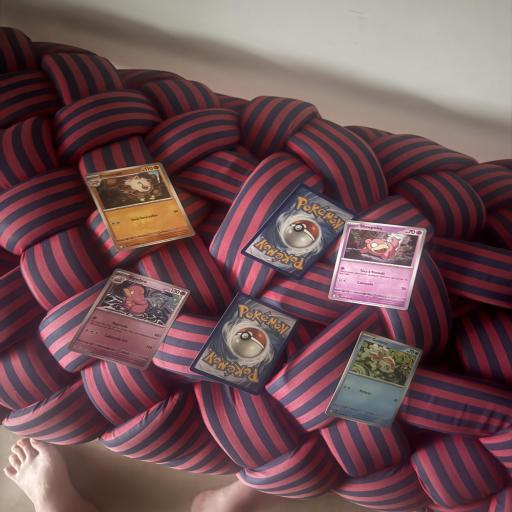card: (66, 251, 193, 390), (84, 143, 197, 268), (324, 324, 425, 441), (328, 210, 427, 317)
